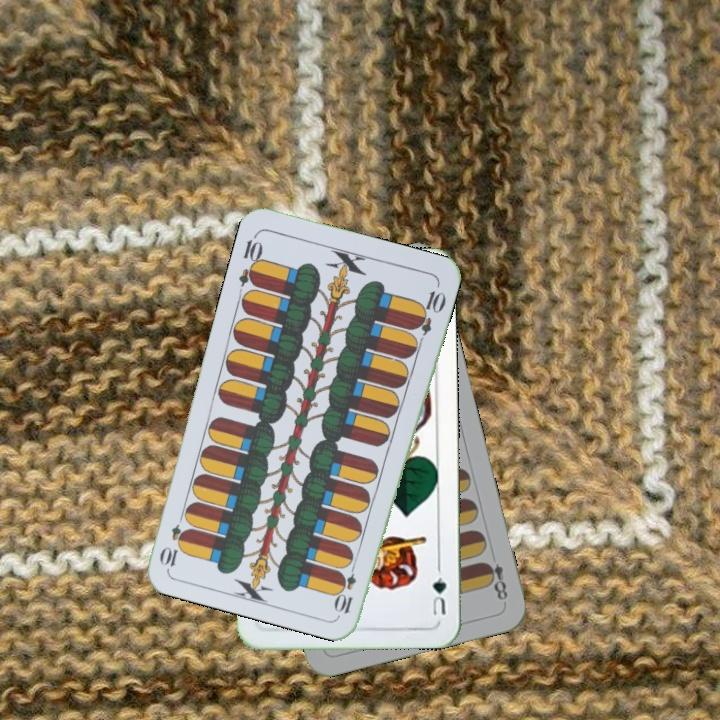E10: (235, 230, 266, 289), (333, 557, 359, 616)
E8: (480, 558, 510, 603)
GU: (428, 573, 449, 618)
